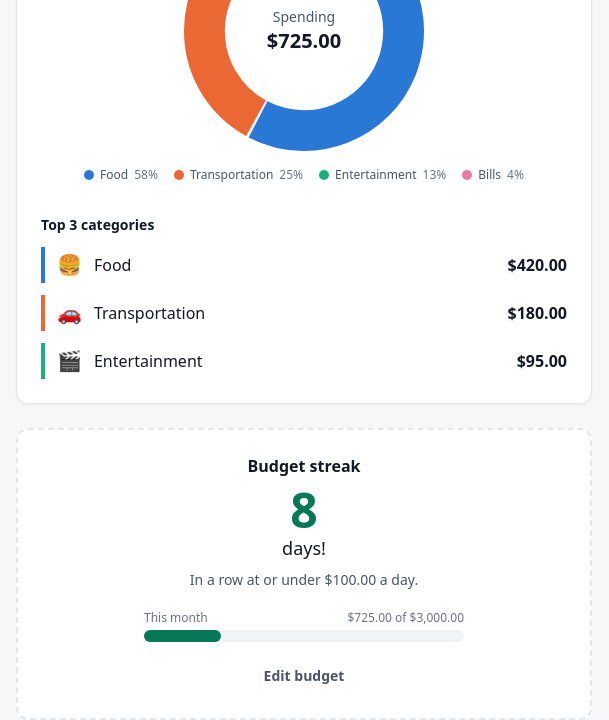
it: MonthlyInsights › restarts the streak after a day over the allowance and lets the budget be edited
The width and height of the screenshot is (609, 720).
(page scrolled)
Expected: the text "8" is shown, [290,486,318,534]
Expected: the text "In a row at or under $100.00 a day." is shown, [190,570,418,589]
Click the button "Edit budget". click: (304, 676)
box: [248,658,360,694]
(page scrolled)
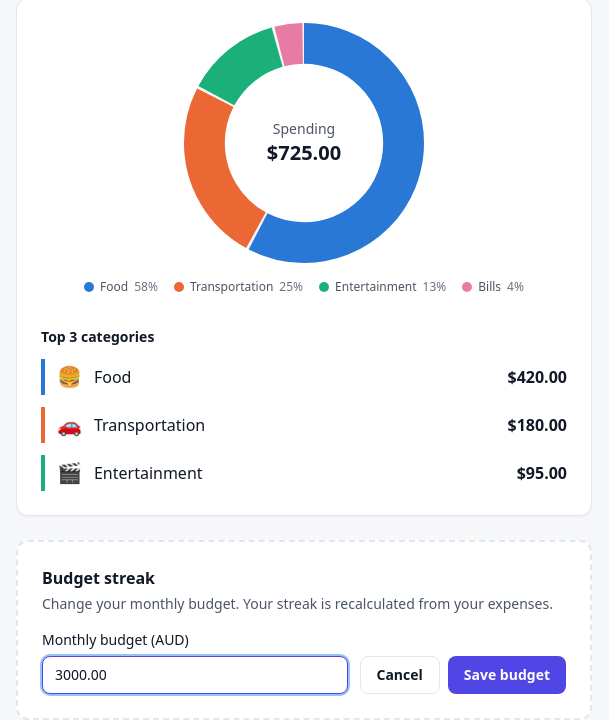
Now the field labelled "Monthly budget (AUD)" holds "3000.00"
Replace the text in the field labelled "Monthly budget (AUD)" with "50". click: (195, 675)
box: [42,656,348,694]
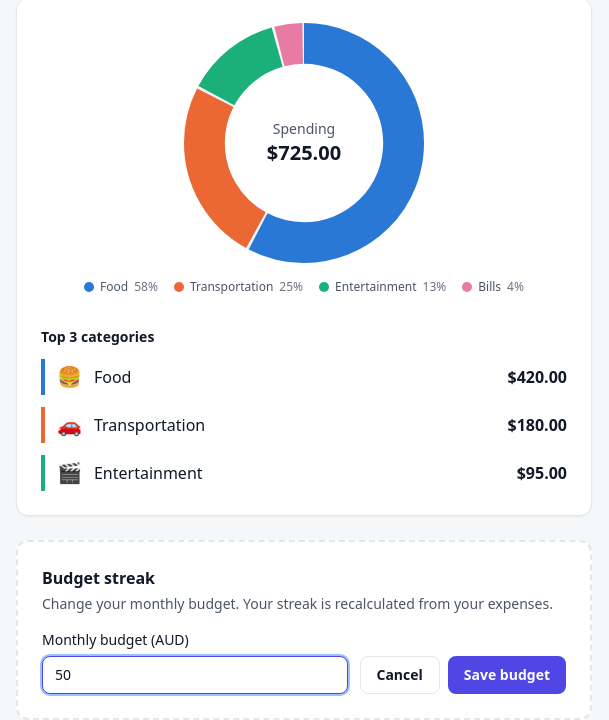
Click the button "Cancel". click: (400, 675)
box: [360,656,440,694]
(page scrolled)
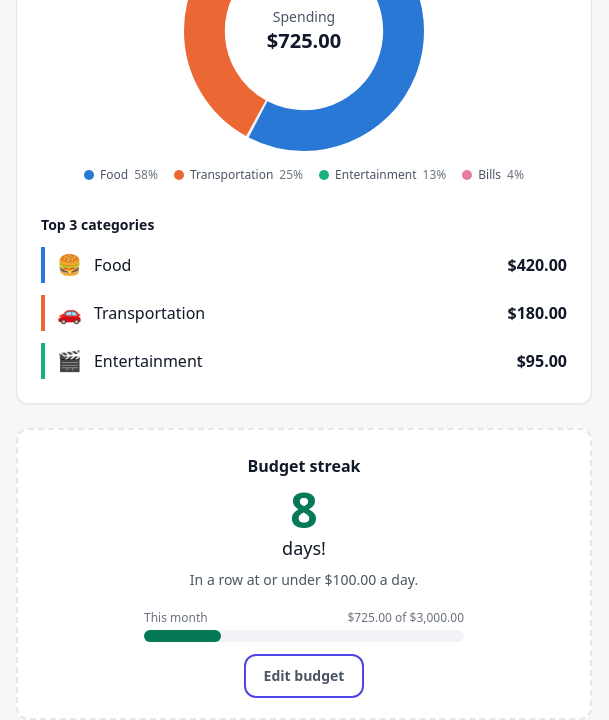
Now the text "In a row at or under $100.00 a day." is shown, box [190,570,418,589]
